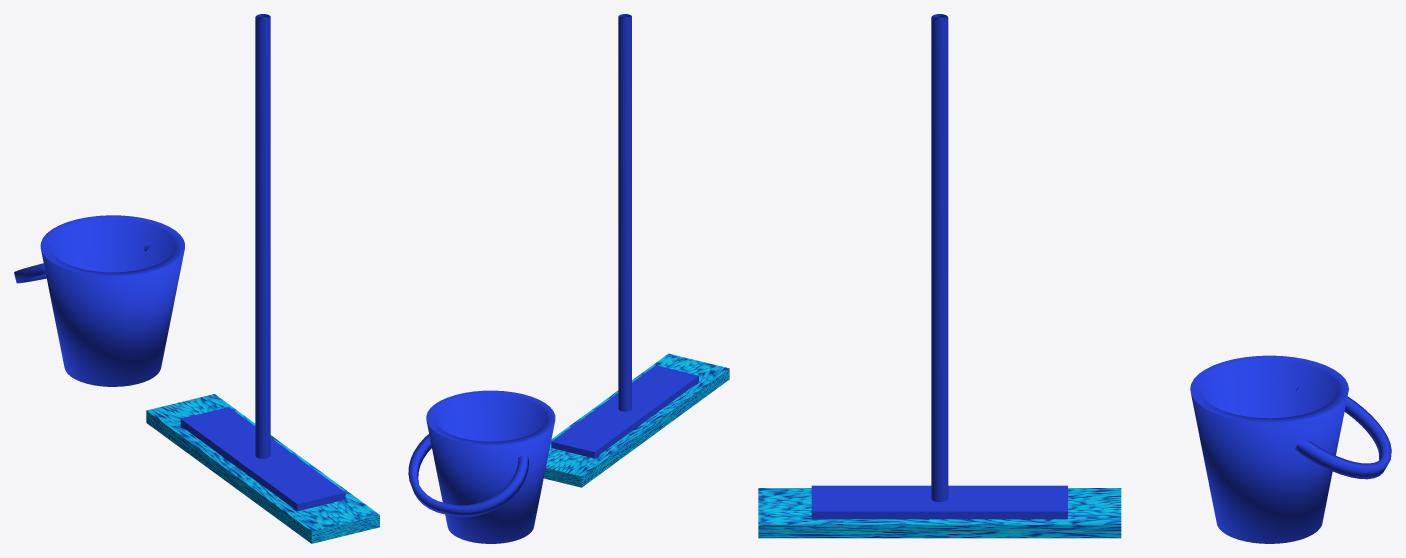
Rendered from mop and bucket.fbx.
The picture shows the model from 3 angles, left to right: view 1: azimuth 30°, elevation 25°; view 2: azimuth 150°, elevation 25°; view 3: azimuth 270°, elevation 25°; orthographic projection. The views are drawn at different scales.
Parts seen in each view (by area): view 1: Cylinder.001, Cube.001, Cylinder, Cube.002, Cylinder.002; view 2: Cylinder.001, Cylinder, Cube.001, Cube.002, Cylinder.002; view 3: Cylinder.001, Cube.001, Cylinder, Cube.002, Cylinder.002.
Boxes of the visible parts, x1,y1,x2,y2 form: Cylinder.001: [40, 215, 184, 386]; Cube.001: [146, 394, 379, 543]; Cylinder: [255, 14, 270, 458]; Cube.002: [180, 407, 345, 511]; Cylinder.002: [14, 241, 152, 283]; Cylinder.001: [426, 390, 555, 543]; Cylinder: [618, 14, 631, 411]; Cube.001: [544, 353, 729, 487]; Cube.002: [551, 365, 698, 458]; Cylinder.002: [408, 426, 528, 516]; Cylinder.001: [1190, 355, 1348, 543]; Cube.001: [758, 488, 1121, 538]; Cylinder: [931, 14, 948, 502]; Cube.002: [811, 485, 1067, 519]; Cylinder.002: [1295, 385, 1391, 479].
Bounding box in the file's own units: 46.59 × 162 × 185.
Materials: 2 (1 with a texture image).
